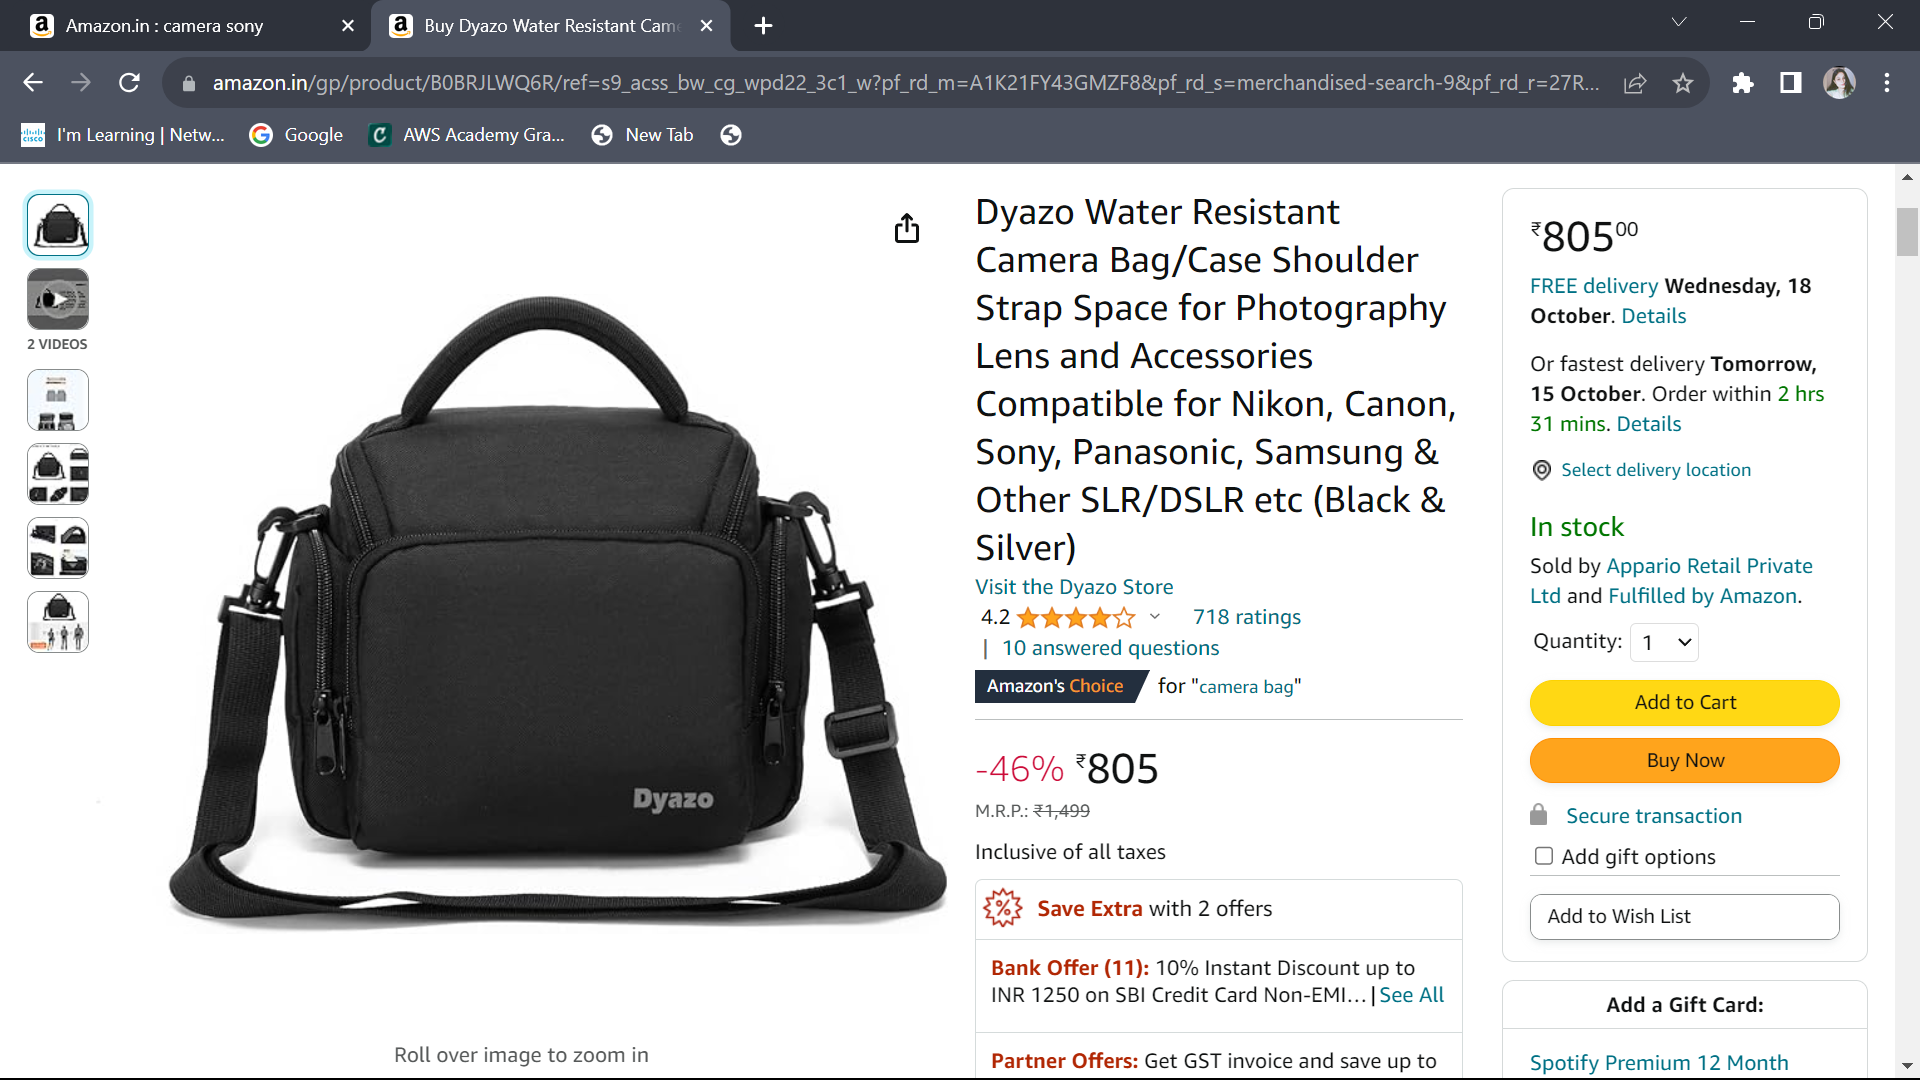Image: (167, 224, 947, 1009)
Paragraph: (923, 177, 1493, 567), (968, 887, 1484, 1069), (1516, 508, 1851, 618), (1523, 675, 1857, 782), (1526, 352, 1861, 451), (973, 570, 1313, 640), (1511, 893, 1861, 952), (973, 746, 1195, 822), (1532, 274, 1812, 328), (1505, 182, 1667, 266), (1523, 839, 1750, 874), (1511, 465, 1792, 493), (1532, 618, 1714, 657)
